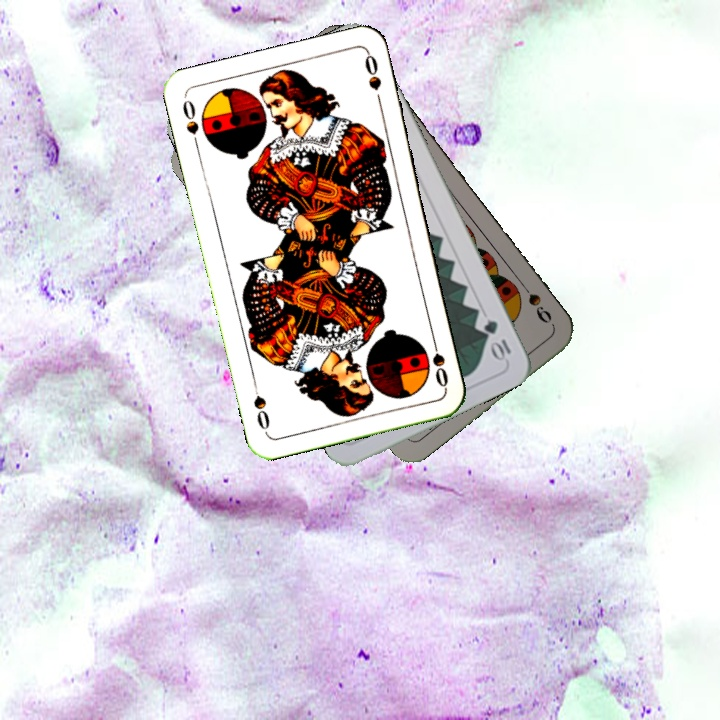G10: (479, 315, 514, 363)
S9: (514, 276, 555, 326)
SO: (427, 332, 451, 391), (178, 95, 202, 152)
